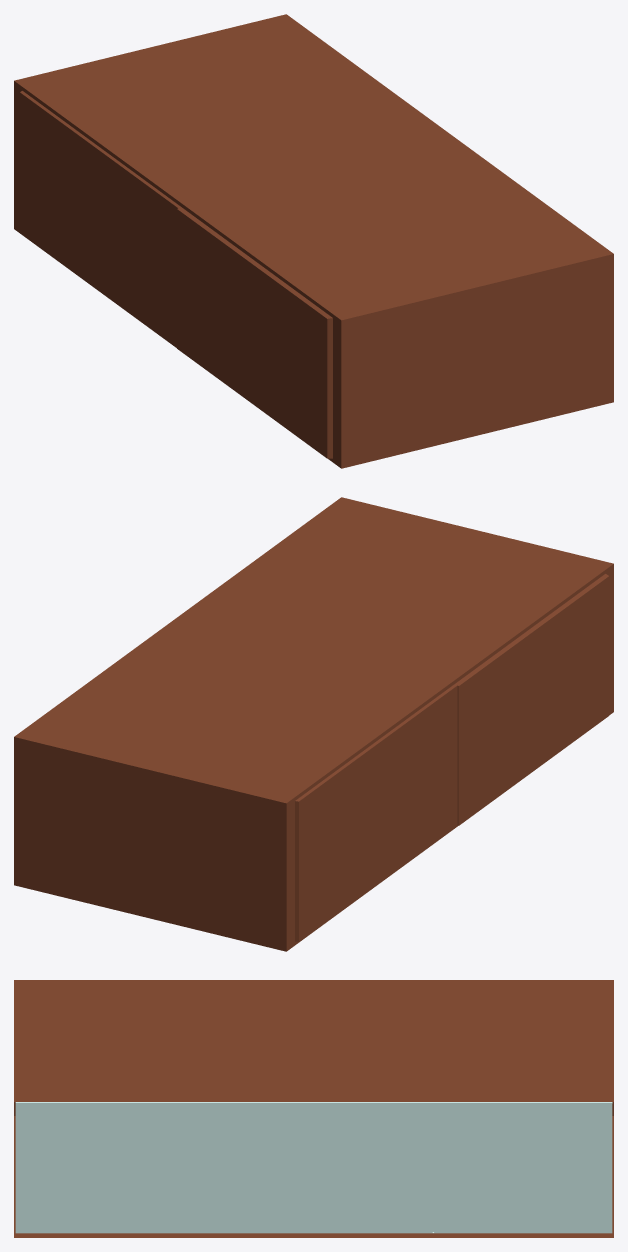
Rendered from glasscabinetbrokennew.fbx.
3 renders of one model, top to bottom at view 1: azimuth 30°, elevation 25°; view 2: azimuth 150°, elevation 25°; view 3: azimuth 270°, elevation 25°, orthographic. The views are drawn at different scales.
Parts seen in each view (by area): view 1: Cube.001; view 2: Cube.001; view 3: Cube.001.
Part boxes in pixels (<box>): Cube.001: <box>14,14,613,468</box>; Cube.001: <box>14,497,613,951</box>; Cube.001: <box>14,980,613,1237</box>.
Size of the model in its own units: 196 by 100 by 400.
